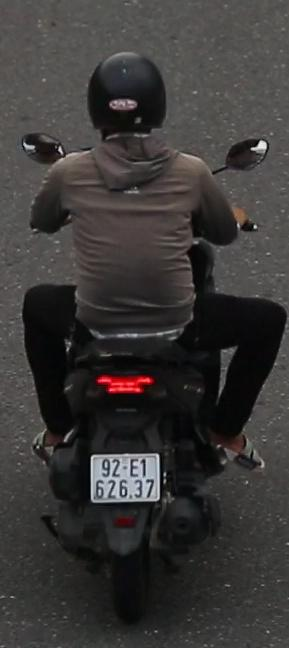LP: (85, 448, 161, 504)
helmet: (78, 48, 173, 159)
